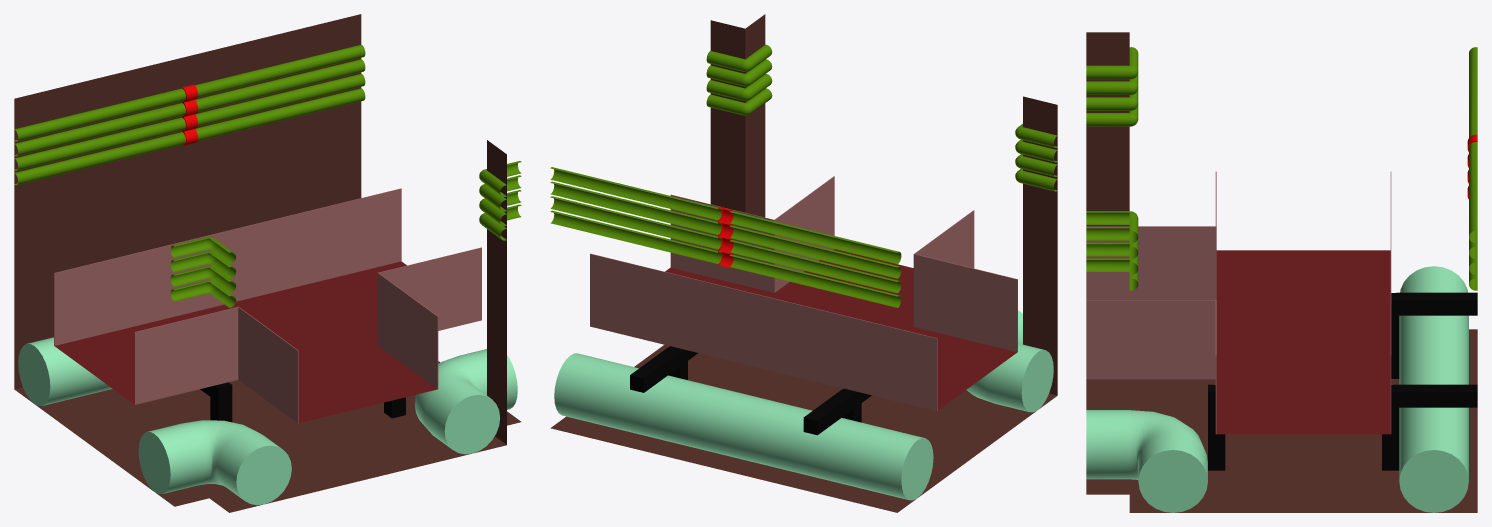
Rendered from _Junction.fbx.
3 views of the same model, side by side, from view 1: azimuth 30°, elevation 25°; view 2: azimuth 150°, elevation 25°; view 3: azimuth 270°, elevation 25° (orthographic). The views are drawn at different scales.
Visible parts, largest first — view 1: TJunction; view 2: TJunction; view 3: TJunction.
Boxes of the visible parts, x1=… form: TJunction: x1=14, y1=14, x2=521, y2=512; TJunction: x1=550, y1=14, x2=1057, y2=512; TJunction: x1=1086, y1=32, x2=1477, y2=512.
Size of the model in its own units: 5 by 4 by 4.5.
